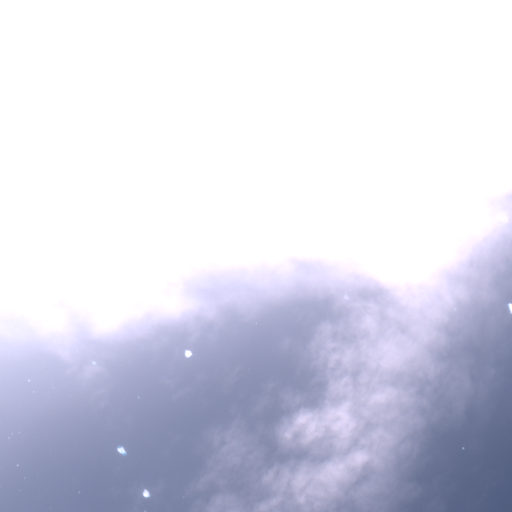Iceberg: (117, 447, 125, 454), (185, 350, 192, 357), (143, 489, 149, 497), (509, 303, 511, 312), (462, 447, 463, 449)
